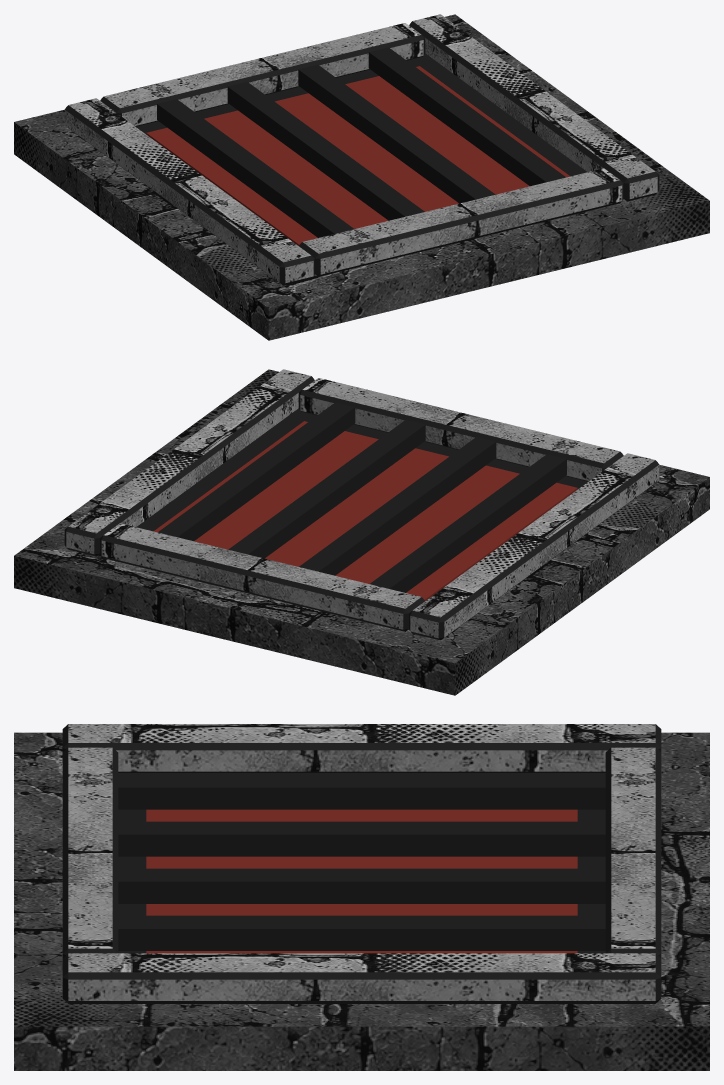
Rendered from hazard.glb.
3 views of the same model, one above another, from view 1: azimuth 30°, elevation 25°; view 2: azimuth 150°, elevation 25°; view 3: azimuth 270°, elevation 25° (orthographic). The views are drawn at different scales.
Parts seen in each view (by area): view 1: Square foundation.003, Blood well, Vent rim.002, Vent rim, Vent rim.001, Vent rim.003, Iron grate.003, Iron grate.001, Iron grate.002, Iron grate, Vent shadow; view 2: Square foundation.003, Blood well, Vent rim.003, Vent rim, Vent rim.001, Vent rim.002, Iron grate.003, Iron grate.001, Iron grate.002, Iron grate, Vent shadow; view 3: Square foundation.003, Vent rim.001, Vent rim, Blood well, Iron grate, Iron grate.001, Iron grate.002, Iron grate.003, Vent rim.002, Vent rim.003, Vent shadow.
Boxes of the visible parts, x1,y1,x2,y2 form: Square foundation.003: [14, 14, 709, 340]; Blood well: [146, 66, 570, 245]; Vent rim.002: [299, 168, 623, 276]; Vent rim: [64, 98, 314, 285]; Vent rim.001: [409, 14, 659, 201]; Vent rim.003: [100, 23, 425, 126]; Iron grate.003: [368, 47, 565, 186]; Iron grate.001: [227, 82, 424, 220]; Iron grate.002: [298, 64, 495, 203]; Iron grate: [157, 99, 353, 237]; Vent shadow: [136, 53, 586, 176]; Square foundation.003: [14, 369, 709, 695]; Blood well: [153, 421, 577, 600]; Vent rim.003: [100, 523, 424, 631]; Vent rim: [409, 453, 659, 640]; Vent rim.001: [64, 369, 314, 556]; Vent rim.002: [298, 378, 623, 481]; Iron grate.003: [158, 402, 355, 541]; Iron grate.001: [299, 437, 496, 575]; Iron grate.002: [228, 419, 425, 558]; Iron grate: [370, 454, 566, 592]; Vent shadow: [137, 408, 587, 531]; Square foundation.003: [14, 732, 709, 1070]; Vent rim.001: [62, 953, 661, 1003]; Vent rim: [62, 724, 661, 772]; Blood well: [146, 809, 577, 953]; Iron grate: [118, 774, 605, 809]; Iron grate.001: [118, 821, 605, 856]; Iron grate.002: [118, 868, 605, 903]; Iron grate.003: [118, 915, 605, 950]; Vent rim.002: [62, 747, 118, 957]; Vent rim.003: [605, 747, 661, 957]; Vent shadow: [118, 773, 605, 953].
Size of the model in its own units: 1 by 0.12 by 1.
3 materials, 1 textured.
